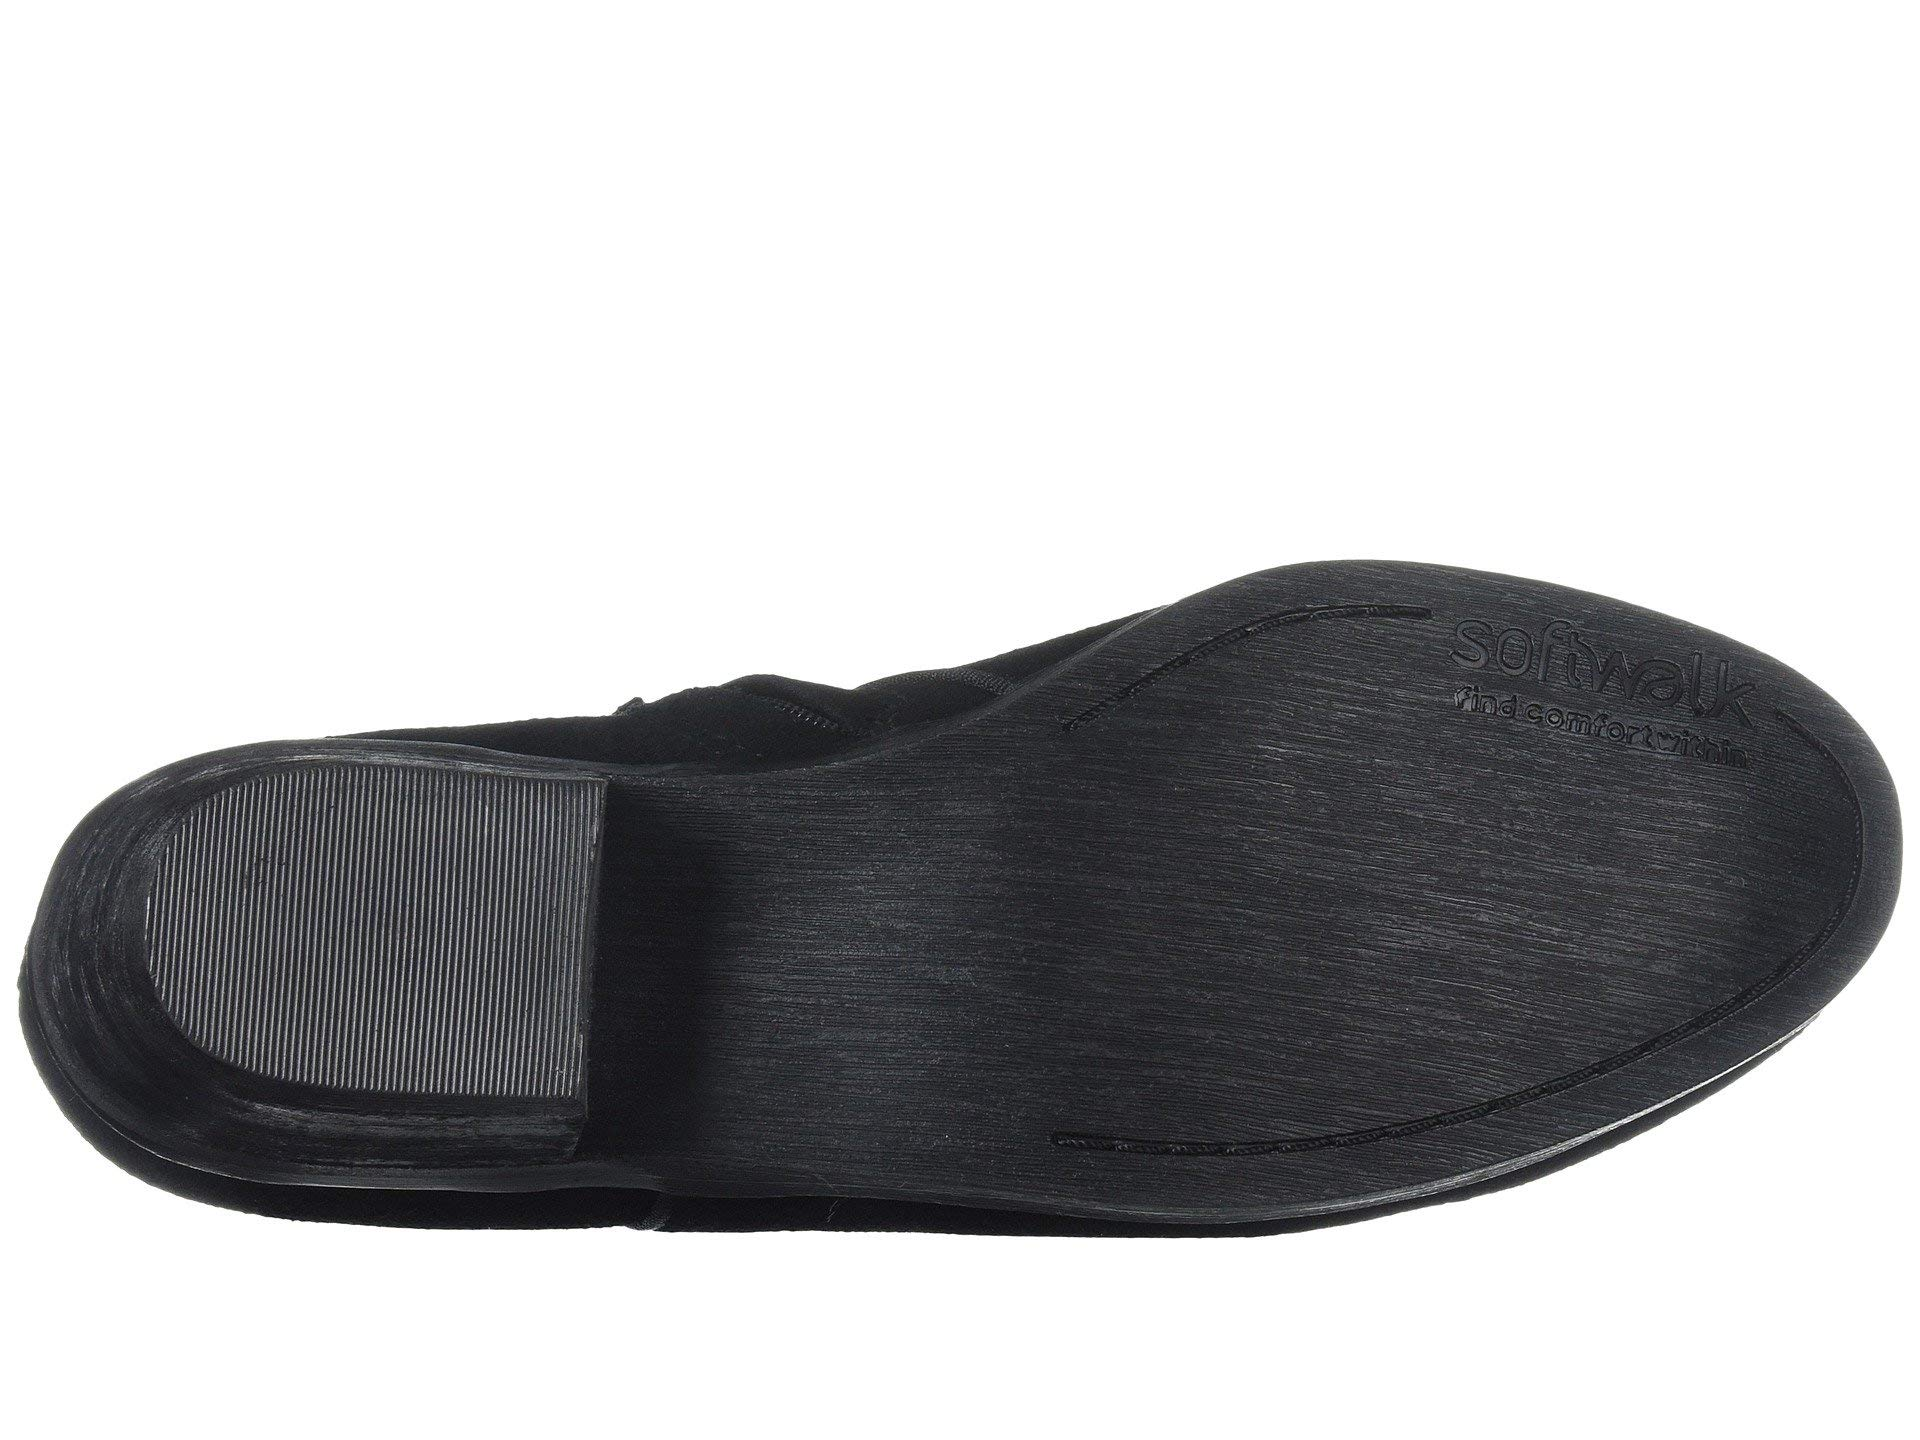circle: (1407, 591, 1798, 809)
line: (1407, 591, 1798, 809), (280, 809, 523, 1032), (1152, 1091, 1524, 1154)
text: (1407, 591, 1798, 809)
